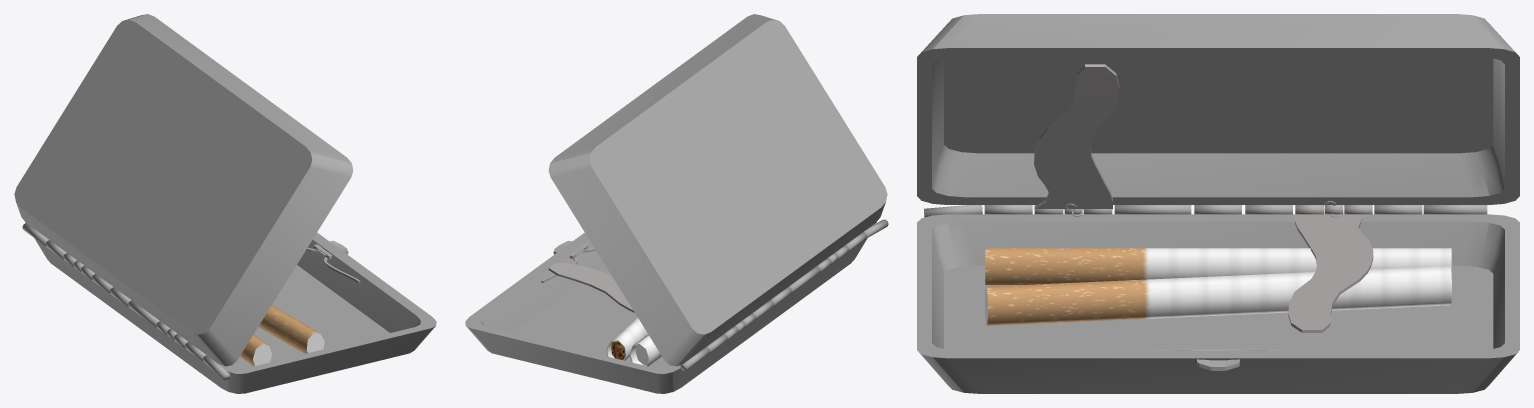
File: cigarette_case.glb
3 renders of one model, left to right at view 1: azimuth 30°, elevation 25°; view 2: azimuth 150°, elevation 25°; view 3: azimuth 270°, elevation 25°, orthographic. The views are drawn at different scales.
Visible parts, largest first — view 1: Cube.011, Cube.007, Cylinder.002, Cylinder.026; view 2: Cube.011, Cube.007, Plane.013, Cylinder.002, Cylinder.026; view 3: Cube.011, Cube.007, Cylinder.002, Cylinder.026, Plane.019, Plane.013, Cylinder.060, Cylinder.056, Cylinder.061, Cube.010.
Part boxes in pixels (x1,y1,x2,y2): Cube.011: [14, 14, 353, 366]; Cube.007: [25, 222, 436, 393]; Cylinder.002: [258, 305, 324, 353]; Cylinder.026: [240, 334, 272, 366]; Cube.011: [548, 14, 887, 366]; Cube.007: [465, 222, 876, 393]; Plane.013: [548, 262, 634, 312]; Cylinder.002: [606, 316, 647, 360]; Cylinder.026: [629, 334, 661, 366]; Cube.011: [917, 14, 1519, 204]; Cube.007: [917, 214, 1519, 393]; Cylinder.002: [985, 266, 1451, 325]; Cylinder.026: [985, 248, 1451, 285]; Plane.019: [1034, 64, 1119, 209]; Plane.013: [1288, 214, 1373, 332]; Cylinder.060: [1114, 205, 1191, 214]; Cylinder.056: [1423, 205, 1487, 214]; Cylinder.061: [924, 205, 982, 217]; Cube.010: [1197, 349, 1239, 370].
Bounding box in the file's own units: 512 × 452 × 800.
Materials: 4 (2 with a texture image).
